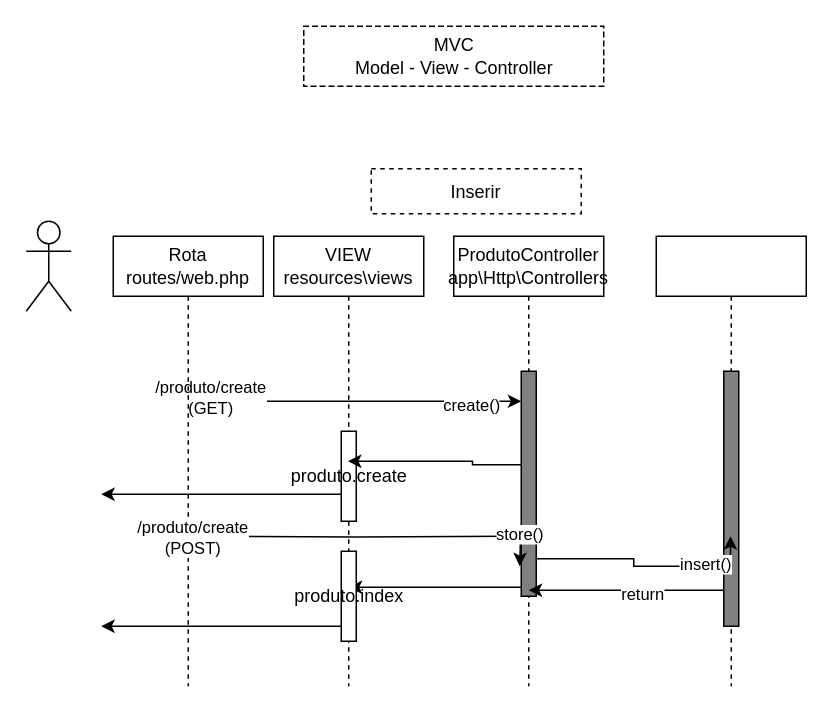
Image size: 833x713. Some labels were removed from this diagram. The centre of each missing label's shape, as x and y in pixels:
"Actor" goes at pixel 48 265.
"Produto app\Models" goes at pixel 730 460.
